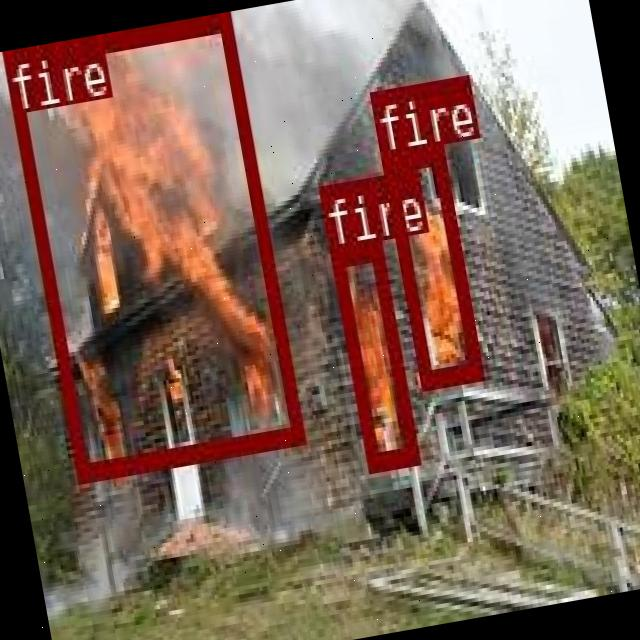fire: (0, 11, 302, 476), (378, 142, 481, 388), (326, 238, 416, 468)
